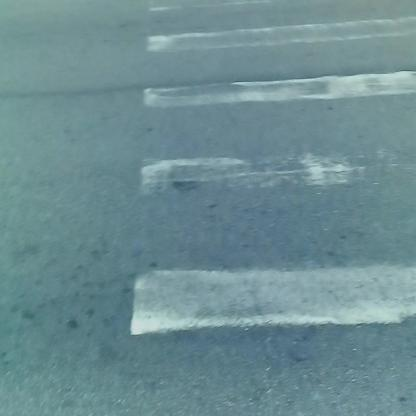crosswalk: (120, 8, 416, 406)
